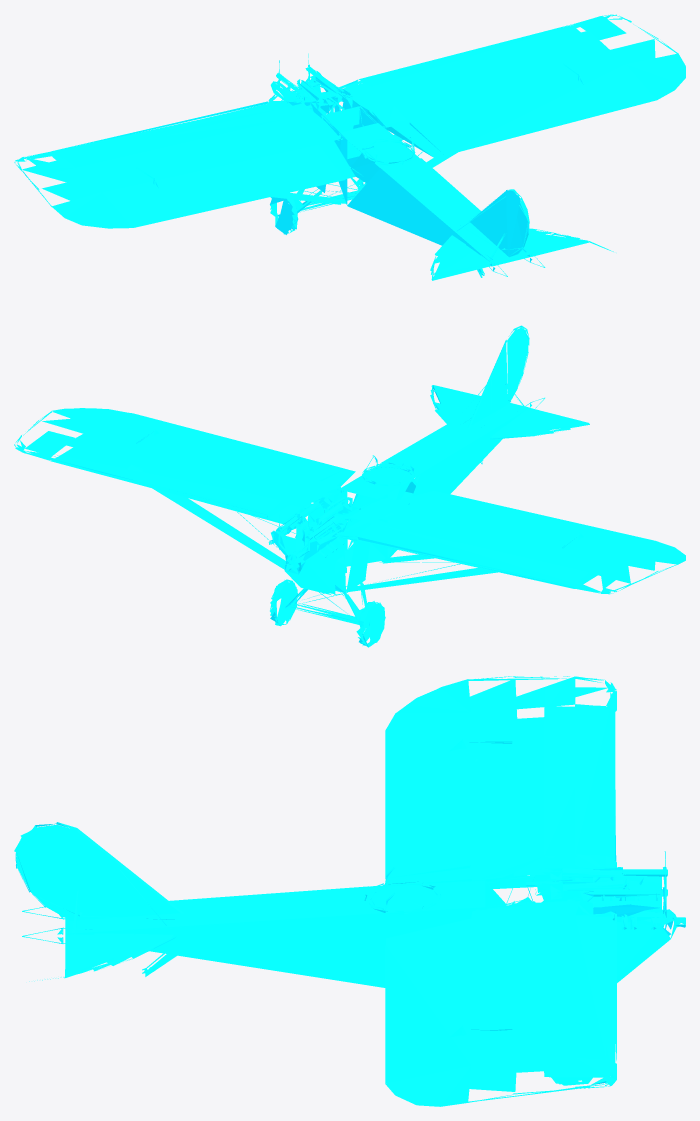
Rendered from PAAF005.glb.
3 views of the same model, one above another, from view 1: azimuth 30°, elevation 25°; view 2: azimuth 150°, elevation 25°; view 3: azimuth 270°, elevation 25° (orthographic). The views are drawn at different scales.
Parts seen in each view (by area): view 1: misc; view 2: misc; view 3: misc.
Boxes of the visible parts, x1=… form: misc: x1=14, y1=14, x2=685, y2=280; misc: x1=14, y1=325, x2=685, y2=647; misc: x1=14, y1=676, x2=685, y2=1106.
Bounding box in the file's own units: 0.7163 × 0.1851 × 0.4808.
